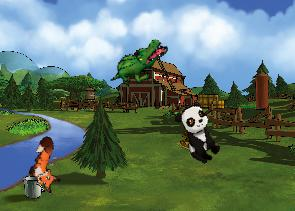crocodile: (108, 28, 170, 97)
fox: (22, 134, 73, 195)
panda: (171, 100, 226, 167)
